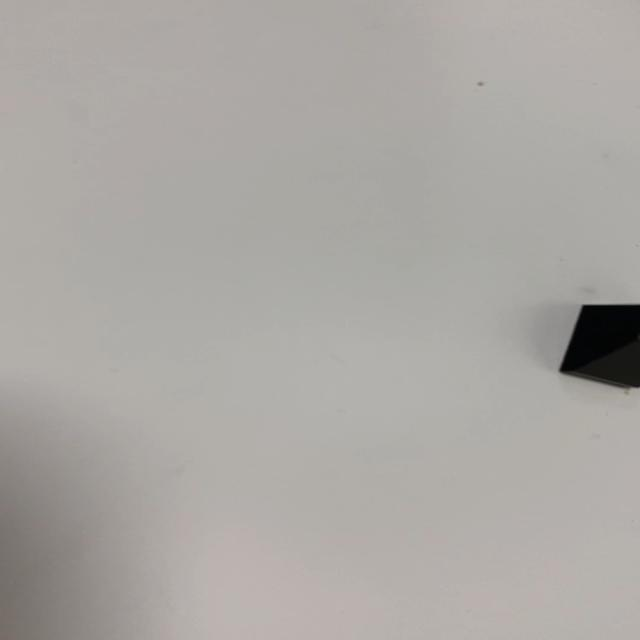P2x2x1: (557, 302, 638, 389)
